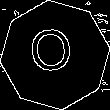O_S: (31, 27, 79, 83)
